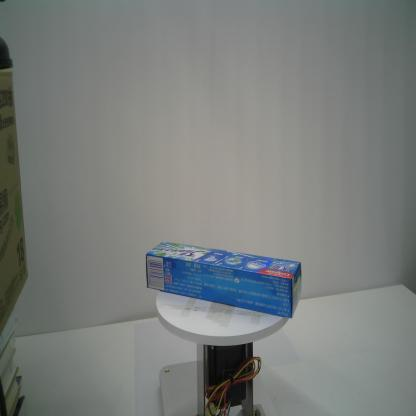Personal Hygiene: (144, 239, 303, 321)
